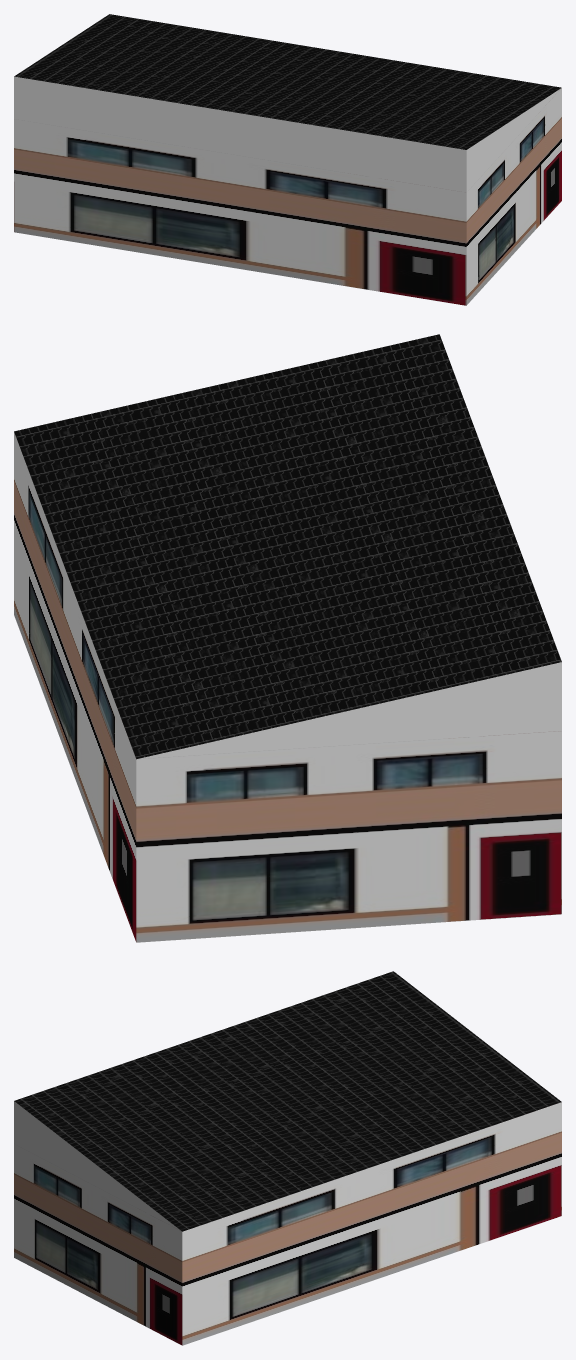
3 views of the same model, one above another, from view 1: azimuth 30°, elevation 25°; view 2: azimuth 150°, elevation 25°; view 3: azimuth 270°, elevation 25° (orthographic). The views are drawn at different scales.
Parts seen in each view (by area): view 1: CityEngineMaterial_5_m, CityEngineMaterial_14_m, CityEngineMaterial_3_m; view 2: CityEngineMaterial_14_m, CityEngineMaterial_5_m, CityEngineMaterial_3_m; view 3: CityEngineMaterial_14_m, CityEngineMaterial_5_m, CityEngineMaterial_3_m.
Part boxes in pixels (x1,y1,x2,y2): CityEngineMaterial_5_m: (14, 88, 561, 305); CityEngineMaterial_14_m: (14, 14, 561, 149); CityEngineMaterial_3_m: (14, 76, 561, 192); CityEngineMaterial_14_m: (14, 334, 561, 759); CityEngineMaterial_5_m: (14, 432, 561, 942); CityEngineMaterial_3_m: (137, 662, 561, 759); CityEngineMaterial_14_m: (14, 971, 561, 1231); CityEngineMaterial_5_m: (14, 1102, 561, 1345); CityEngineMaterial_3_m: (14, 1101, 180, 1230).
Size of the model in its own units: 35.71 by 12 by 37.98.
